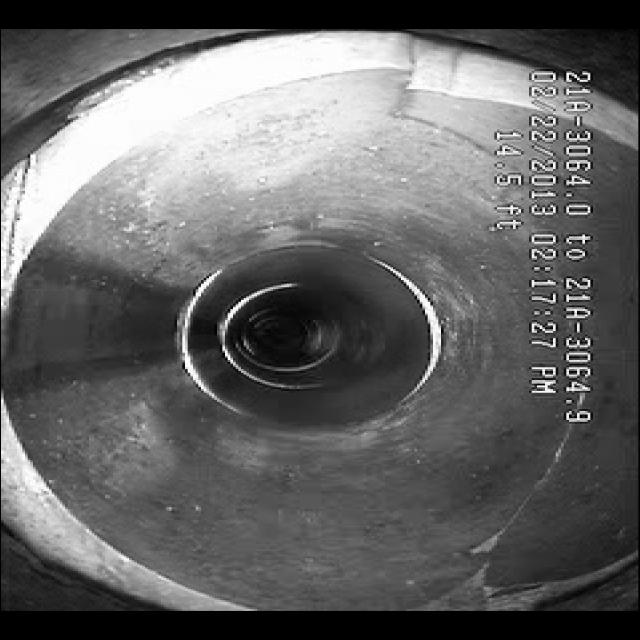Crack: (464, 440, 594, 582)
